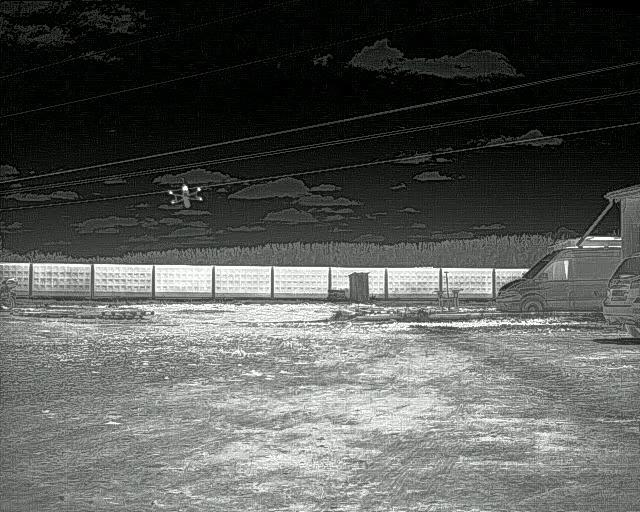drone-thermal: (165, 179, 205, 209)
